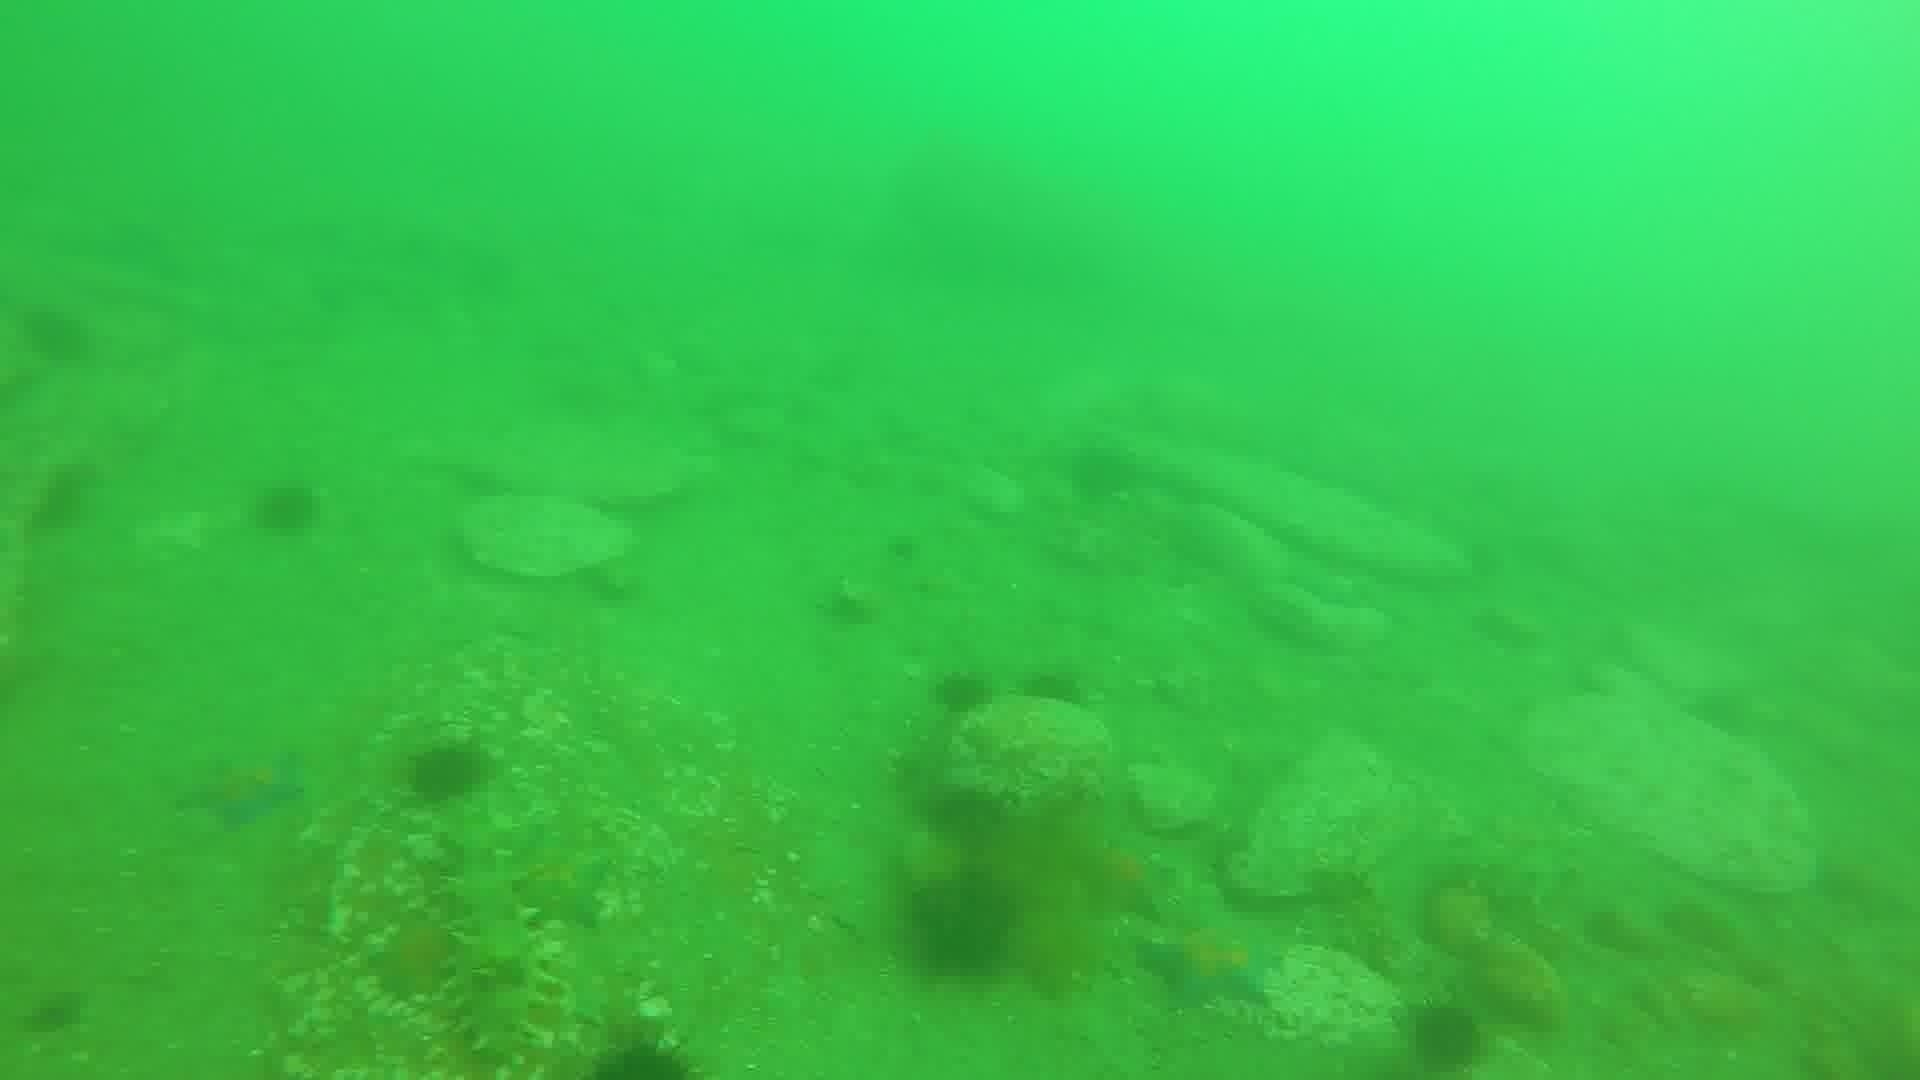echinus: (899, 862, 1025, 984), (400, 735, 491, 810), (1400, 998, 1490, 1073), (920, 781, 1011, 851), (585, 1027, 702, 1077), (25, 459, 98, 535), (16, 301, 95, 368), (247, 475, 324, 541), (1015, 661, 1089, 713), (927, 665, 996, 721), (814, 580, 880, 632)
holothurian: (436, 848, 556, 1068)
scallop: (455, 489, 633, 589)
starfish: (1137, 915, 1287, 1015), (171, 744, 309, 833), (506, 825, 618, 930), (1072, 829, 1176, 923), (363, 911, 462, 1005)
